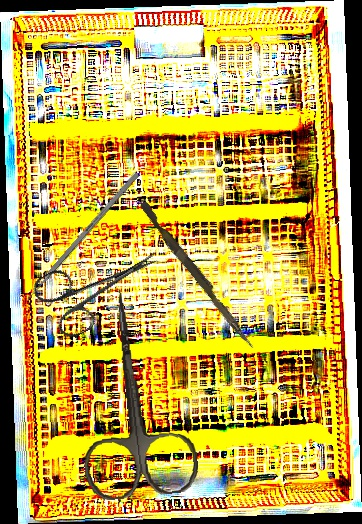Iris Scissors: (65, 283, 201, 503), (29, 224, 173, 345)
Pusher: (135, 200, 261, 351), (17, 171, 140, 311)
